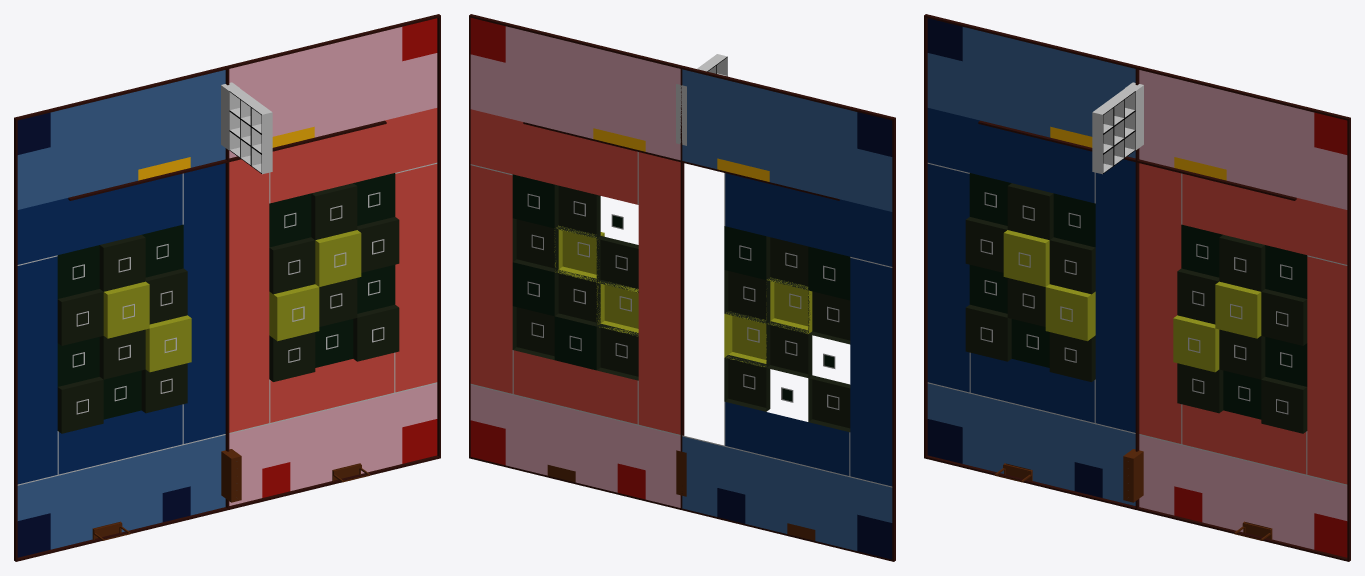
File: fieldObj_zySwap.obj
The picture shows the model from 3 angles, left to right: view 1: azimuth 30°, elevation 25°; view 2: azimuth 150°, elevation 25°; view 3: azimuth 330°, elevation 25°; orthographic projection.
Visible parts, largest first — view 1: cArenaBlue, cArenaR, aDojoB, aDojoR, bPathwayB1, bPathwayR1, bPathwayR3, bPathwayB3, bPathwayR4, bPathwayB4, WallB, bPathwayB2 (+39 smaller); view 2: cArenaR, cArenaBlue, aDojoB, aDojoR, bPathwayR1, bPathwayB3, bPathwayR3, bPathwayB4, bPathwayR4, bPathwayR2, bPathwayB2, WallB (+33 smaller); view 3: cArenaR, cArenaBlue, aDojoR, aDojoB, bPathwayR1, bPathwayB1, bPathwayB3, bPathwayR3, bPathwayB4, bPathwayR4, WallR, bPathwayR2 (+39 smaller).
Boxes of the visible parts, x1,y1,x2,y2 form: cArenaBlue: (17, 70, 225, 209); cArenaR: (229, 27, 437, 158); aDojoB: (17, 435, 225, 549); aDojoR: (229, 383, 437, 505); bPathwayB1: (183, 163, 225, 443); bPathwayR1: (229, 159, 269, 432); bPathwayR3: (395, 164, 437, 392); bPathwayB3: (17, 256, 57, 484); bPathwayR4: (270, 108, 437, 203); bPathwayB4: (17, 173, 182, 264); WallB: (14, 66, 228, 561); bPathwayB2: (58, 404, 182, 474); cArenaR: (470, 26, 680, 160); cArenaBlue: (682, 69, 892, 211); aDojoB: (682, 436, 892, 550); aDojoR: (470, 385, 680, 507); bPathwayR1: (638, 152, 680, 434); bPathwayB3: (850, 258, 892, 486); bPathwayR3: (470, 165, 512, 393); bPathwayB4: (725, 173, 892, 266); bPathwayR4: (470, 109, 637, 204); bPathwayR2: (513, 350, 637, 424); bPathwayB2: (725, 402, 849, 475); WallB: (681, 66, 895, 561); cArenaR: (1139, 70, 1347, 209); cArenaBlue: (927, 27, 1135, 158); aDojoR: (1139, 435, 1347, 549); aDojoB: (927, 383, 1135, 505); bPathwayR1: (1139, 163, 1181, 443); bPathwayB1: (1095, 159, 1135, 432); bPathwayB3: (927, 164, 969, 392); bPathwayR3: (1307, 256, 1347, 484); bPathwayB4: (927, 108, 1094, 203); bPathwayR4: (1182, 173, 1347, 264); WallR: (1136, 66, 1350, 561); bPathwayR2: (1182, 404, 1306, 474).
Bounding box in the file's own units: 12.15 × 12.1 × 2.03.
